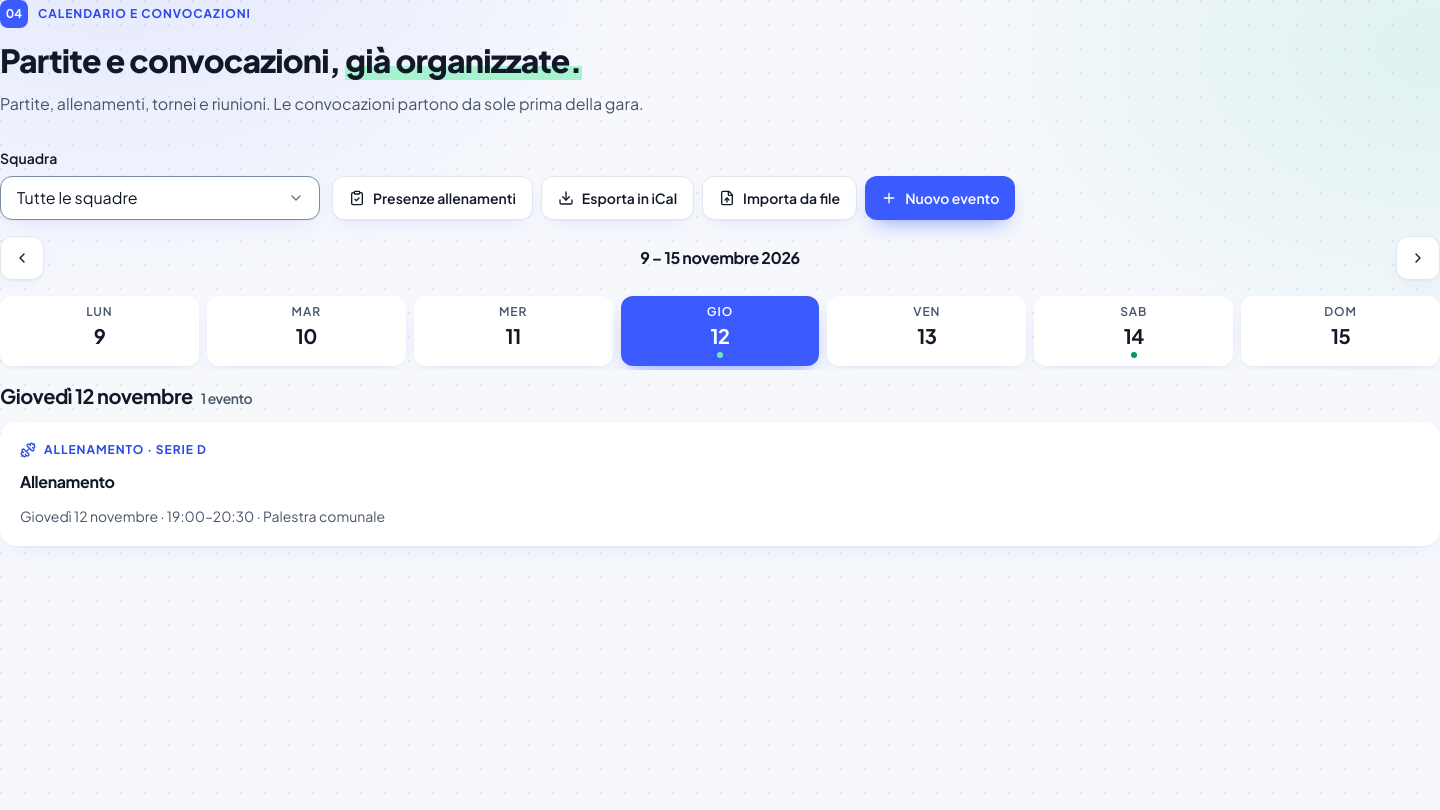
Test: event detail and squad › shows the squad in three groups with their counts: confirmed, declined with the reason, no answer
Step 1. Click the button named "sab 14 novembre, con eventi" → (1134, 331), box [1034,296,1233,366]
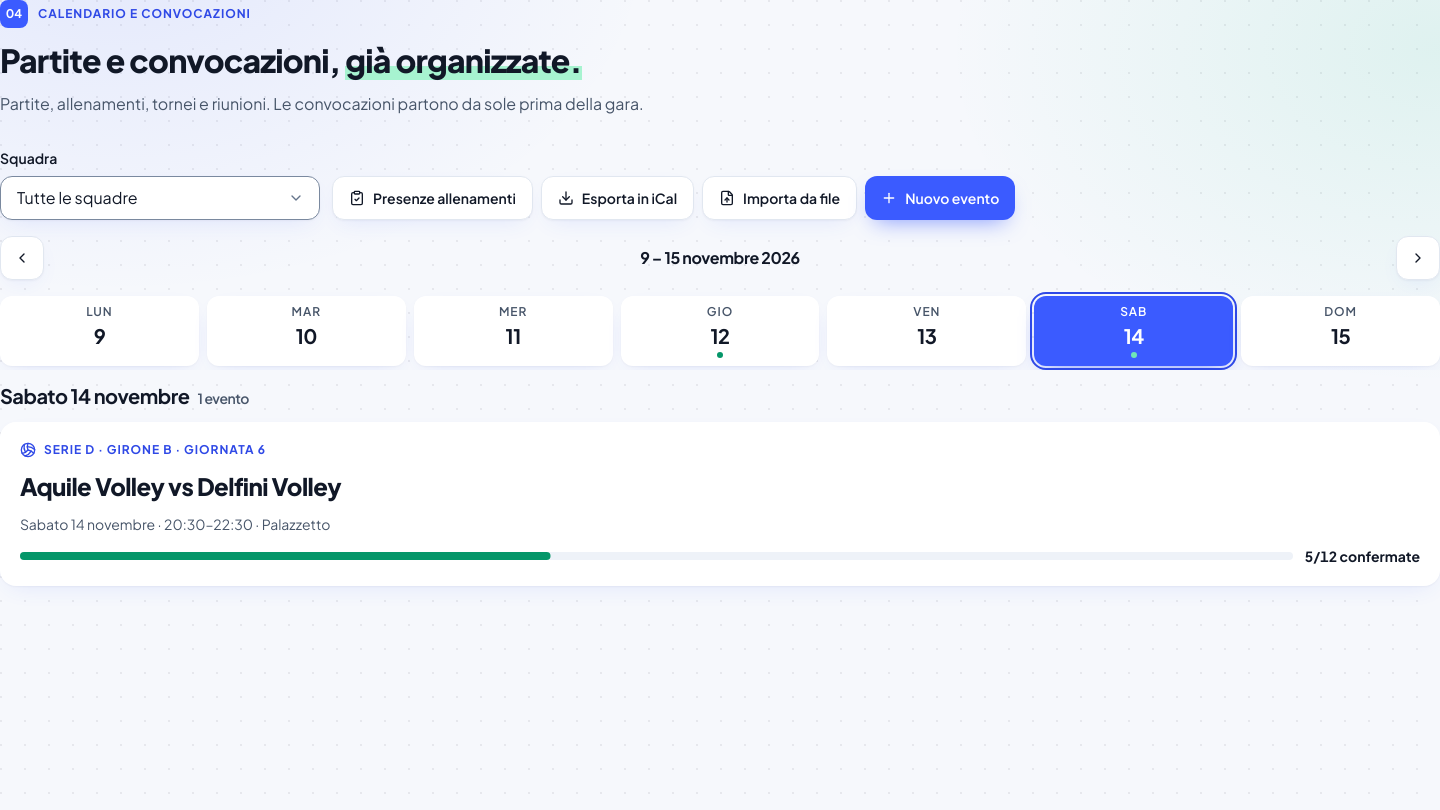
Step 2. Click the button "Aquile Volley vs Delfini Volley" → (181, 486), box [20,470,341,502]
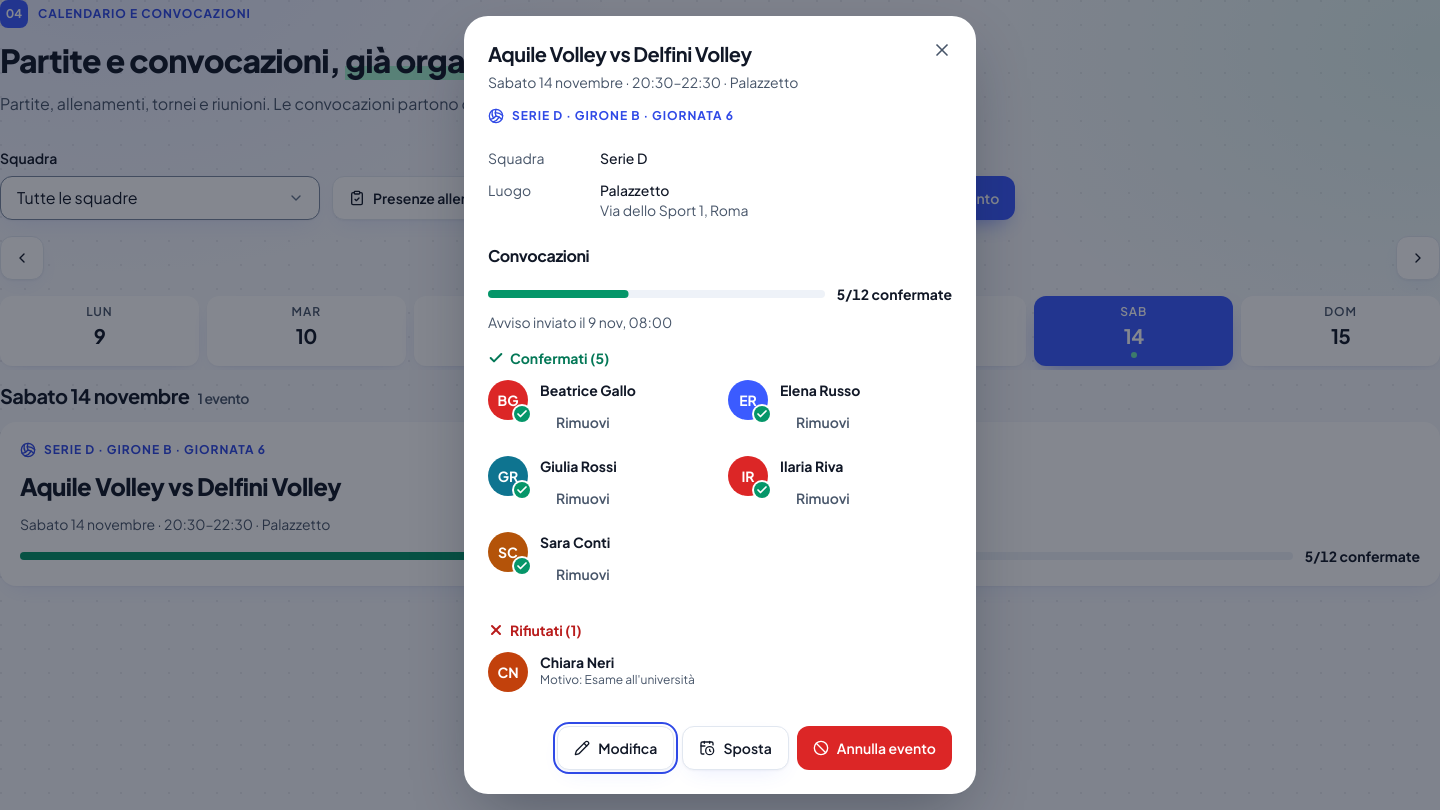
Check: the text "Serie D · Girone B · Giornata 6" is shown, box [512,108,734,124]
Check: the text "Via dello Sport 1, Roma" is shown, box [600,201,748,219]
Check: the text "5/12 confermate" is shown, box [837,284,952,304]
